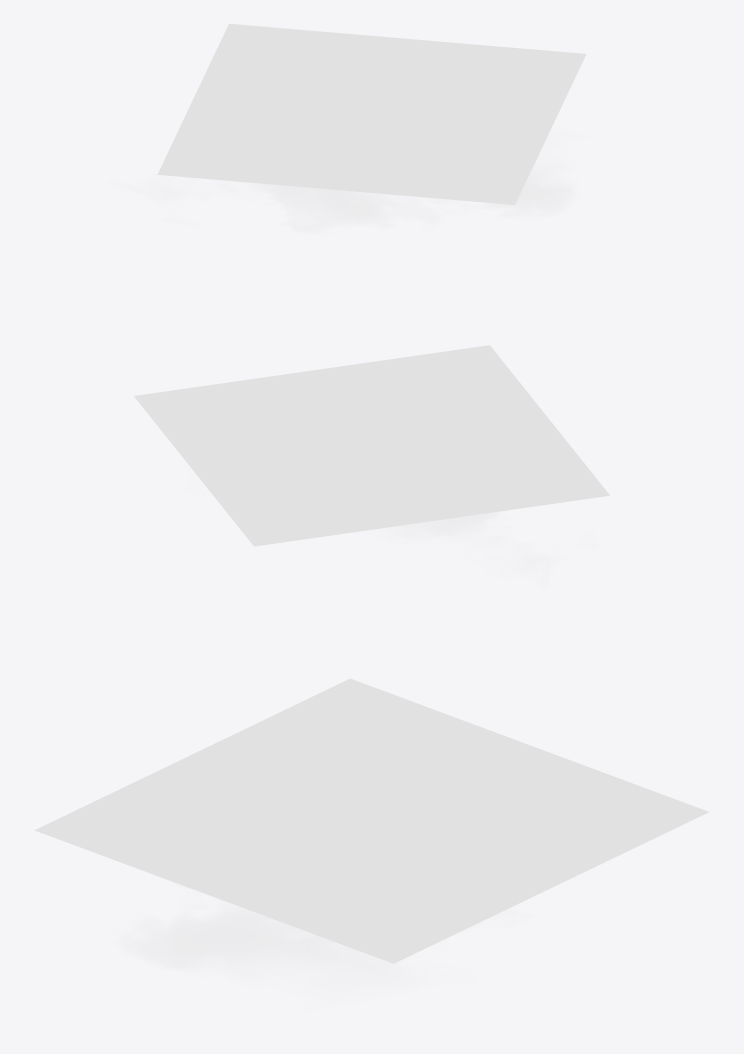
Rendered from cloud3.glb.
The picture shows the model from 3 angles, top to bottom: view 1: azimuth 30°, elevation 25°; view 2: azimuth 150°, elevation 25°; view 3: azimuth 270°, elevation 25°; orthographic projection. The views are drawn at different scales.
Visible parts, largest first — view 1: cloud_05_Cloud_01_0, cloud_04_cloud_00_0; view 2: cloud_05_Cloud_01_0, cloud_04_cloud_00_0; view 3: cloud_05_Cloud_01_0, cloud_04_cloud_00_0.
Part boxes in pixels (x1,y1,x2,y2): cloud_05_Cloud_01_0: (157, 23, 586, 204); cloud_04_cloud_00_0: (129, 161, 574, 232); cloud_05_Cloud_01_0: (134, 345, 609, 546); cloud_04_cloud_00_0: (385, 511, 552, 578); cloud_05_Cloud_01_0: (34, 678, 708, 963); cloud_04_cloud_00_0: (119, 901, 506, 991).
Size of the model in its own units: 320 by 33.09 by 320.
2 materials, 2 textured.
